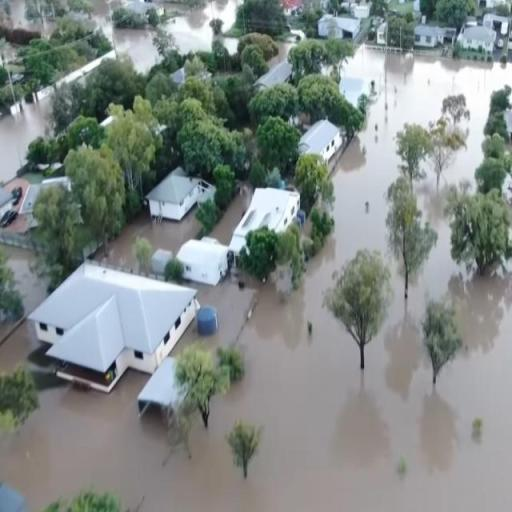flood: (0, 48, 512, 512), (105, 207, 200, 270), (0, 321, 64, 391), (0, 98, 51, 182), (165, 0, 242, 52), (0, 245, 46, 315), (213, 185, 252, 244), (116, 28, 159, 71), (91, 0, 114, 47), (154, 0, 211, 17)
house: (32, 262, 210, 400), (230, 183, 304, 264), (144, 171, 217, 228), (175, 236, 234, 286), (298, 117, 342, 175), (458, 20, 497, 65), (413, 21, 454, 58), (316, 8, 361, 40)
